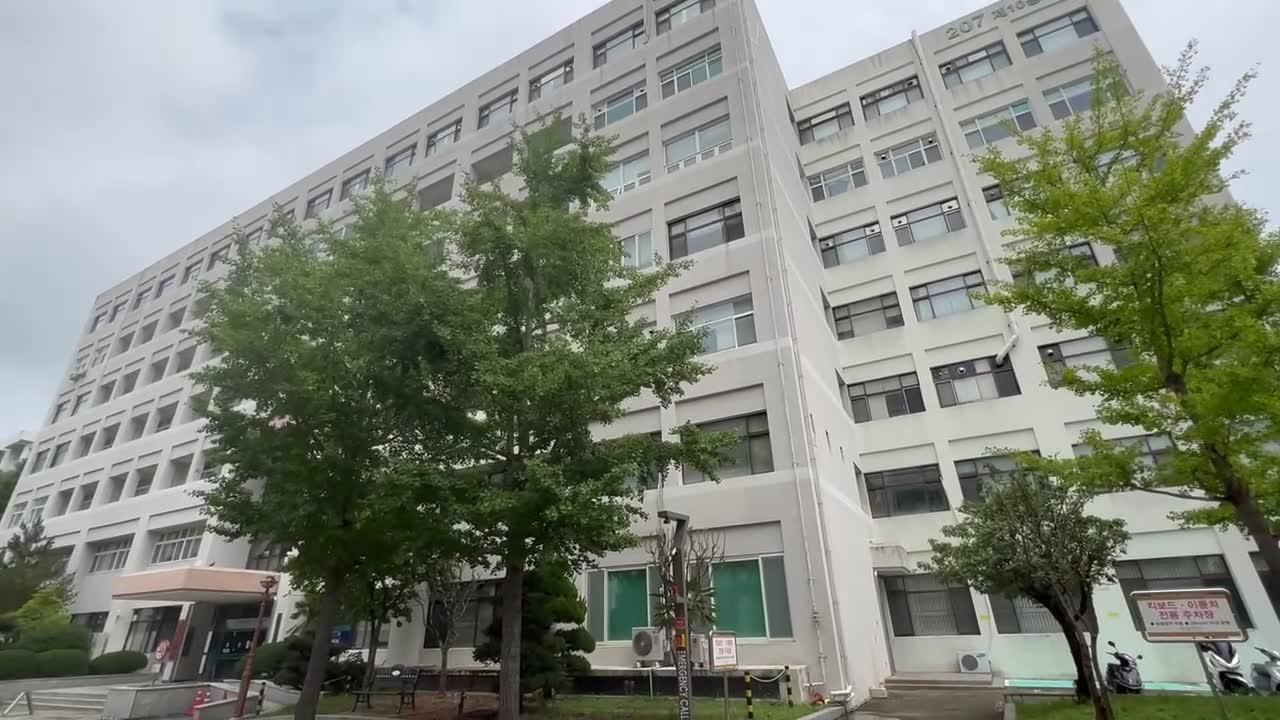building: (620, 0, 1018, 507)
